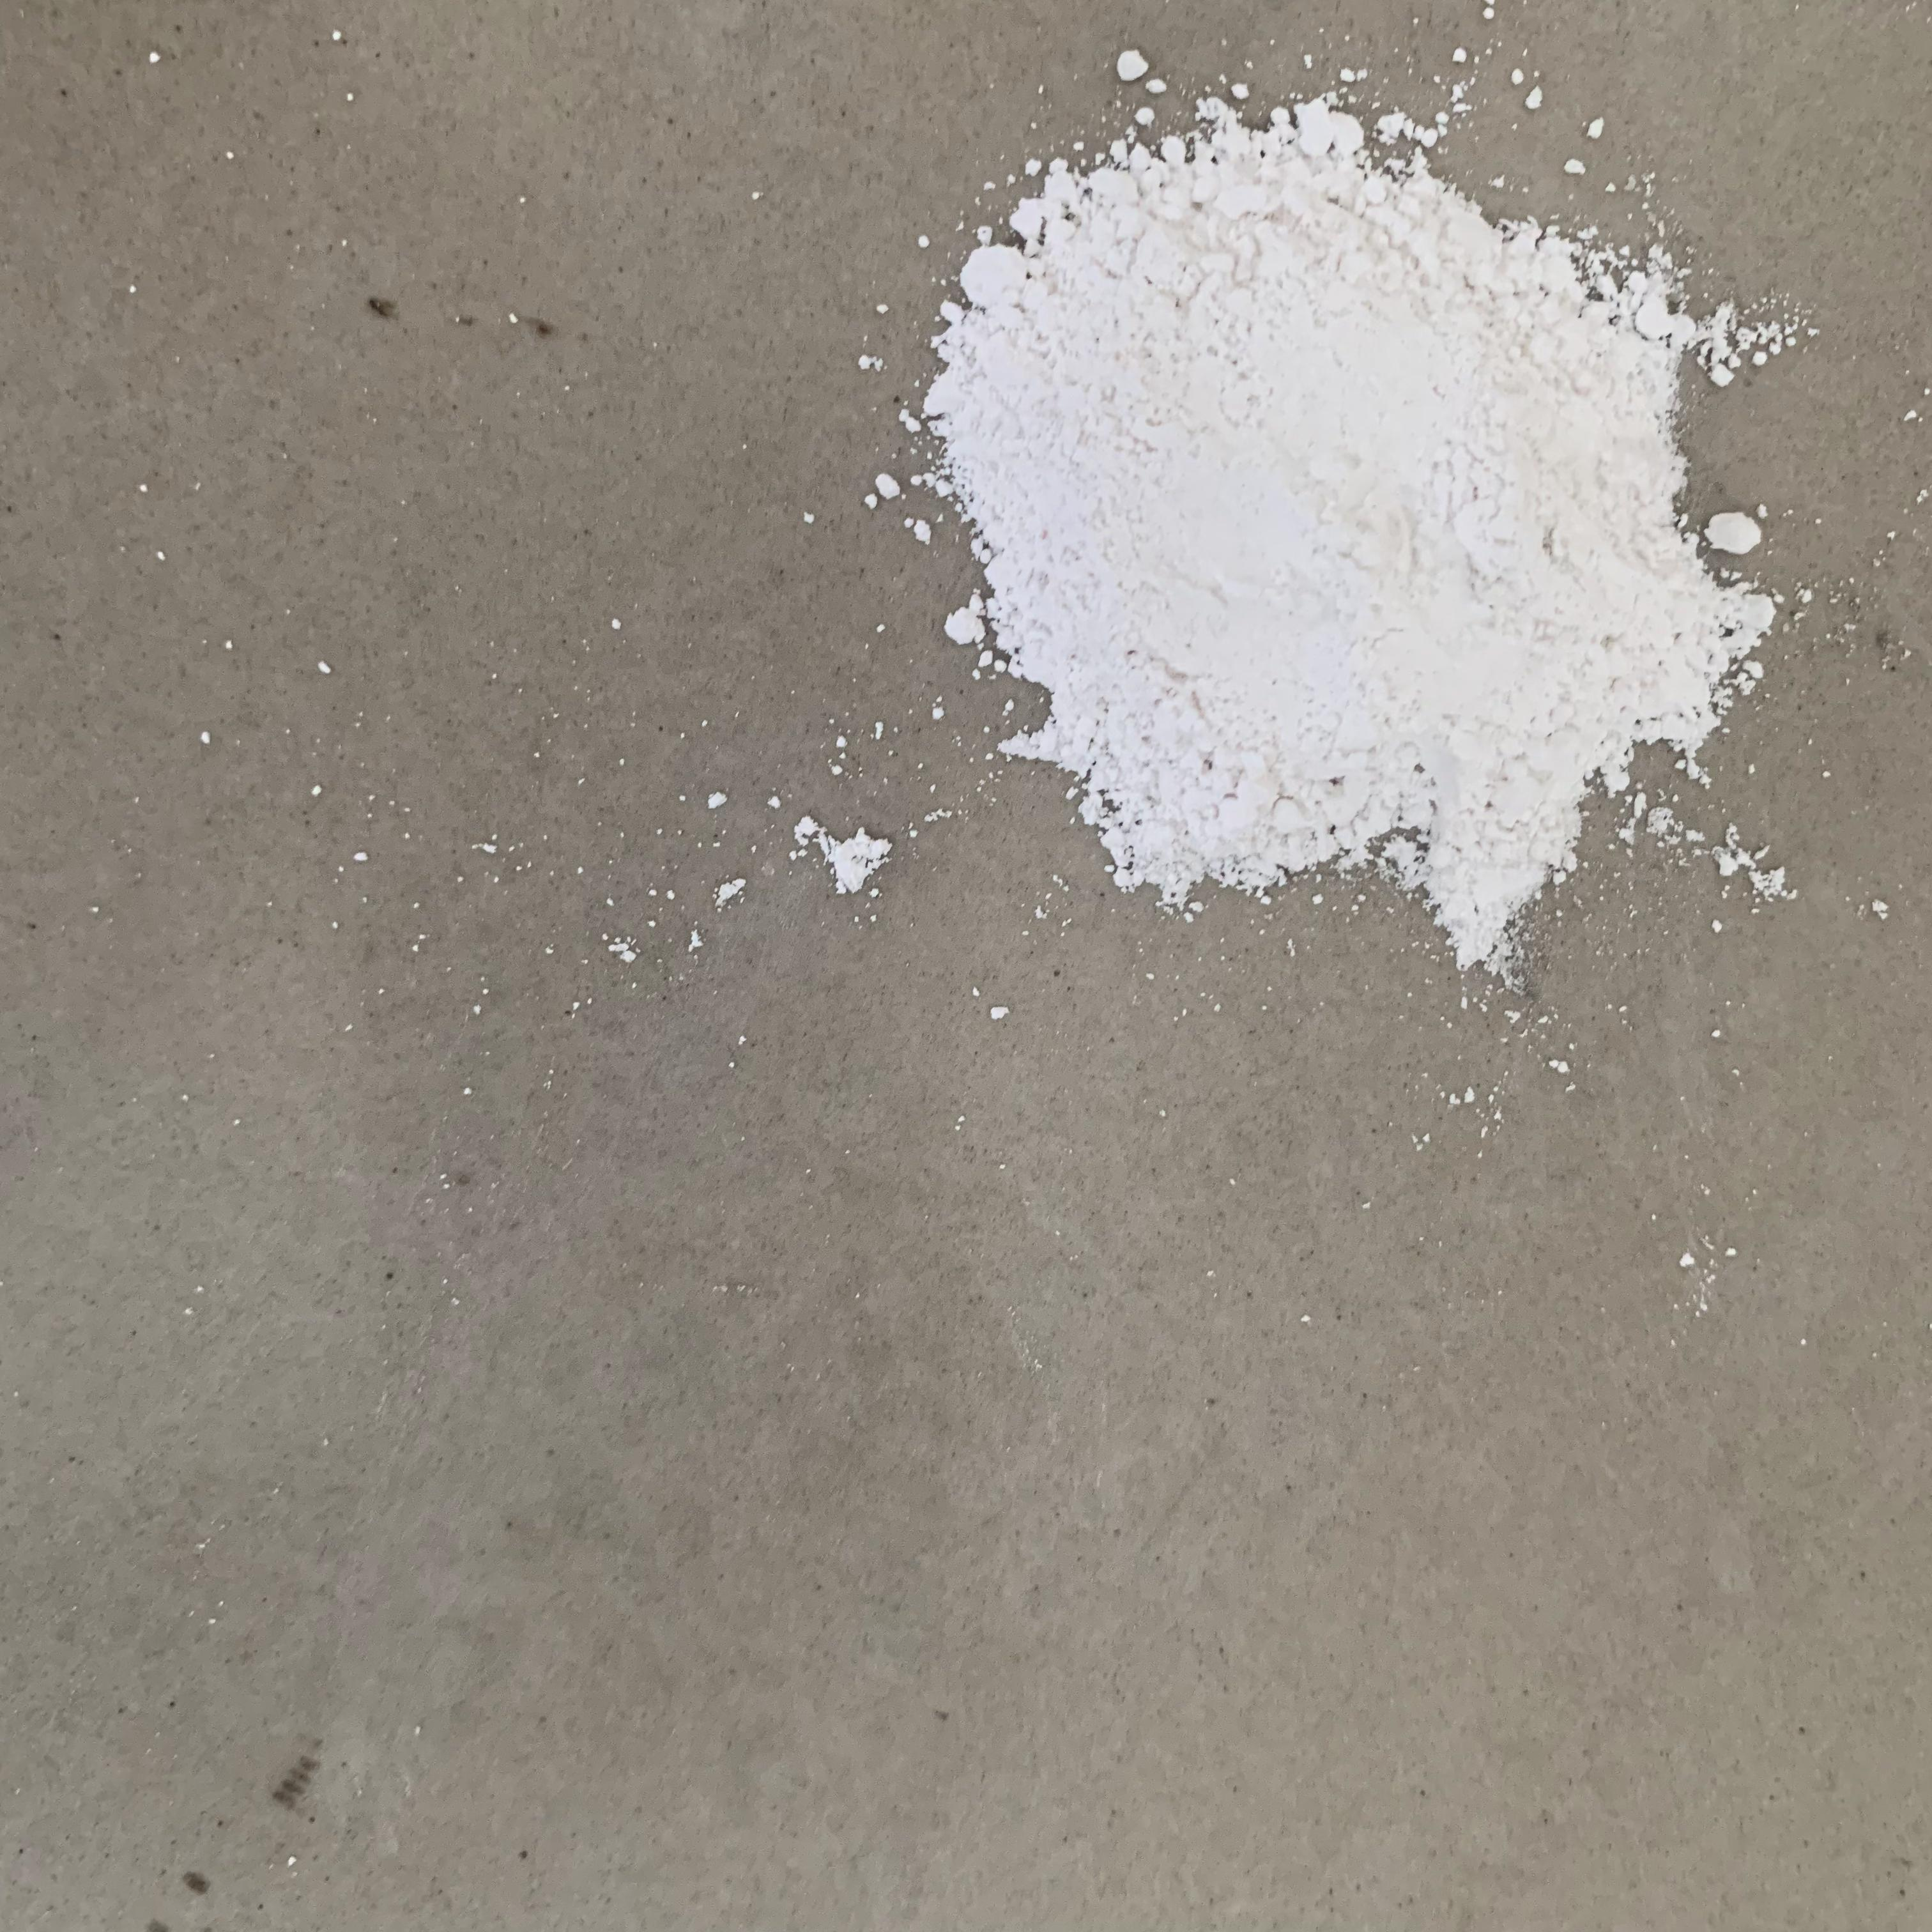ash pile: (902, 101, 1775, 966), (793, 816, 892, 897)
